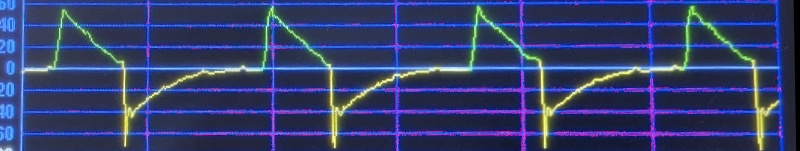normal_flow: (23, 0, 773, 151)
